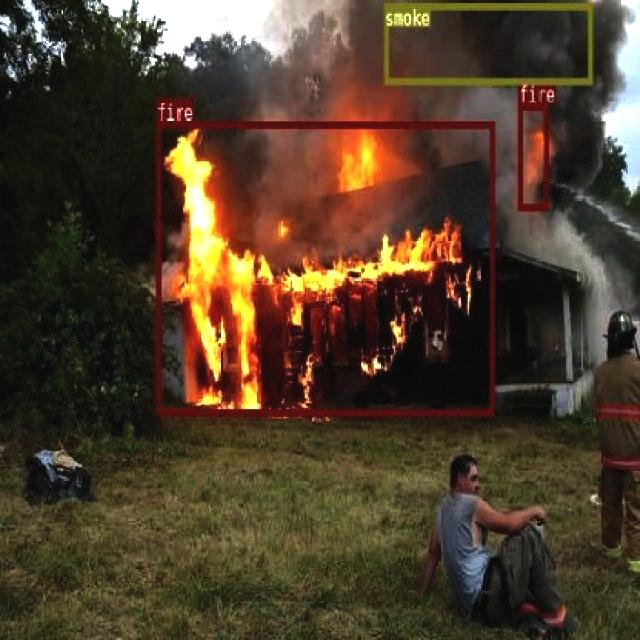fire: (156, 120, 493, 416), (517, 103, 548, 209)
smoke: (384, 2, 592, 82)
